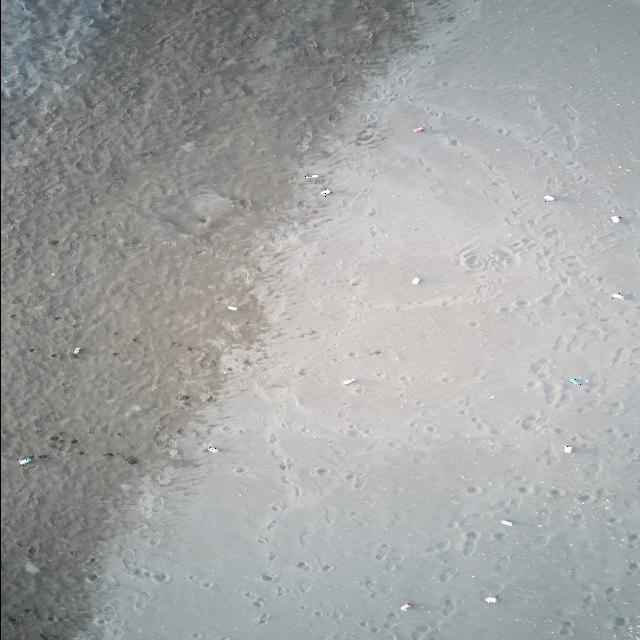Garbage: (24, 560, 40, 573), (16, 455, 32, 464), (124, 455, 138, 463), (400, 602, 411, 612), (484, 595, 497, 603), (320, 187, 331, 196), (568, 377, 582, 384), (303, 173, 319, 179), (609, 215, 620, 223), (543, 193, 555, 200), (612, 292, 624, 299), (343, 377, 355, 384), (207, 445, 218, 452), (502, 519, 512, 526), (412, 125, 423, 131), (72, 347, 80, 355), (412, 276, 420, 283), (564, 444, 572, 451), (228, 304, 236, 310)
